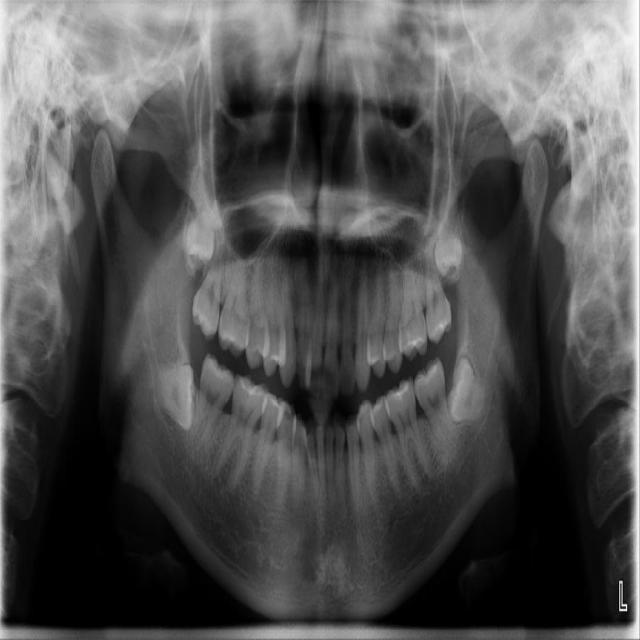impacted tooth: (153, 352, 193, 429), (186, 168, 214, 273), (447, 358, 492, 422), (435, 178, 462, 276)
